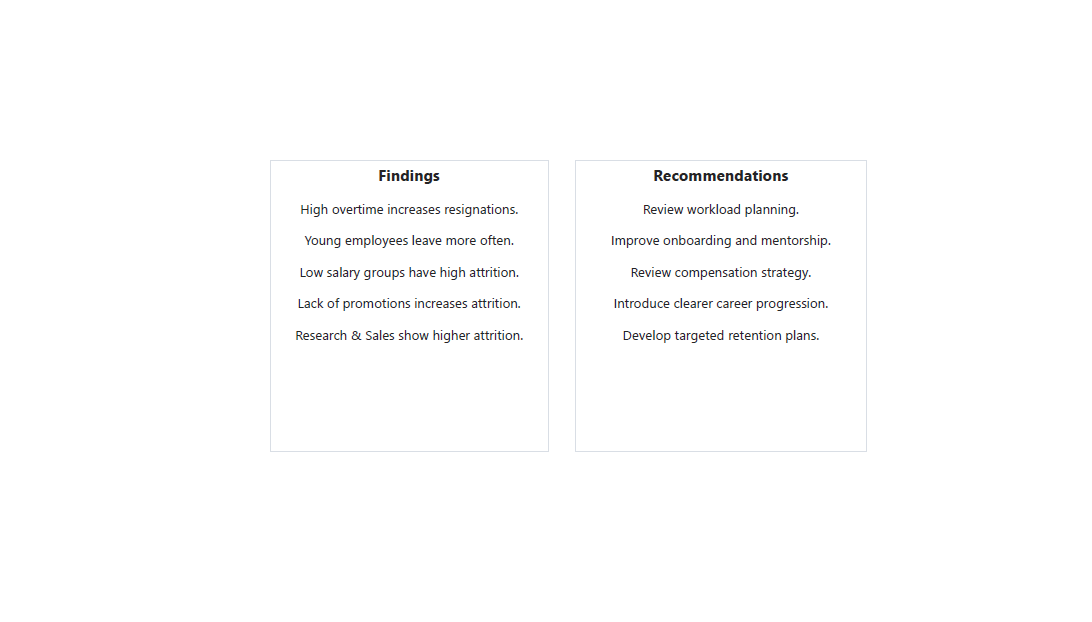

Layout of this report page (visuals, bound fields, positions):
{"tool":"powerbi","page":{"name":"Recommendations","canvas":[1280,720],"ordinal":6},"visuals":[{"type":"textbox","box":[304,176,336,352],"z":0},{"type":"textbox","box":[672,176,352,352],"z":1}]}

Visuals, with their boxes in screenshot pixels (x1, y1, x2, y2), scaled from the page's 1280x720 canvas onto the 1092x622 screenshot:
textbox: [x1=259, y1=152, x2=546, y2=456]
textbox: [x1=573, y1=152, x2=874, y2=456]
